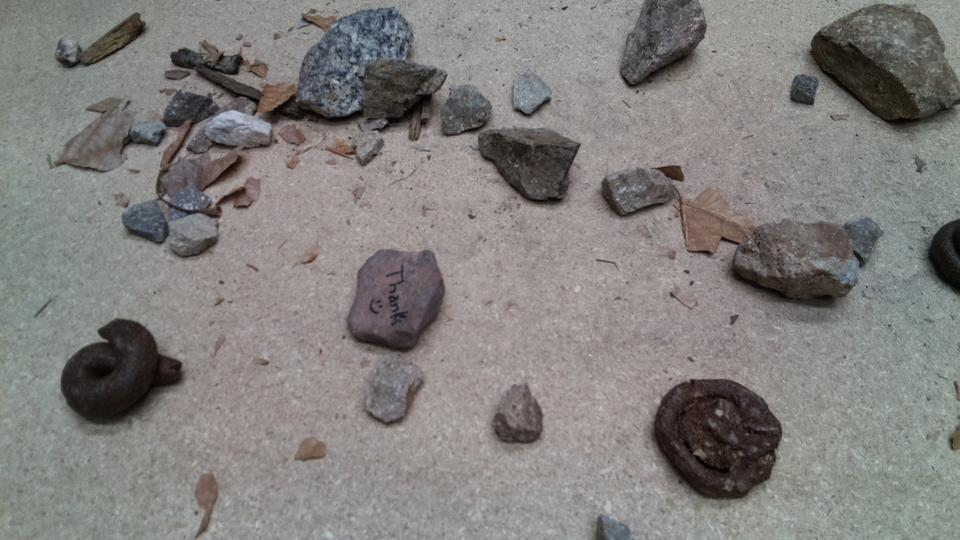poop: (651, 375, 783, 505), (57, 315, 187, 423), (926, 213, 960, 303)
